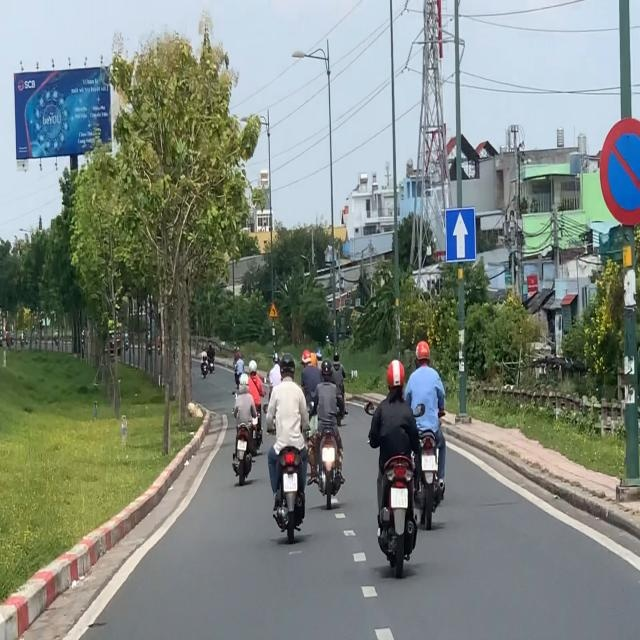bien_cam: (599, 117, 640, 226), (444, 205, 477, 263), (268, 301, 279, 318)
